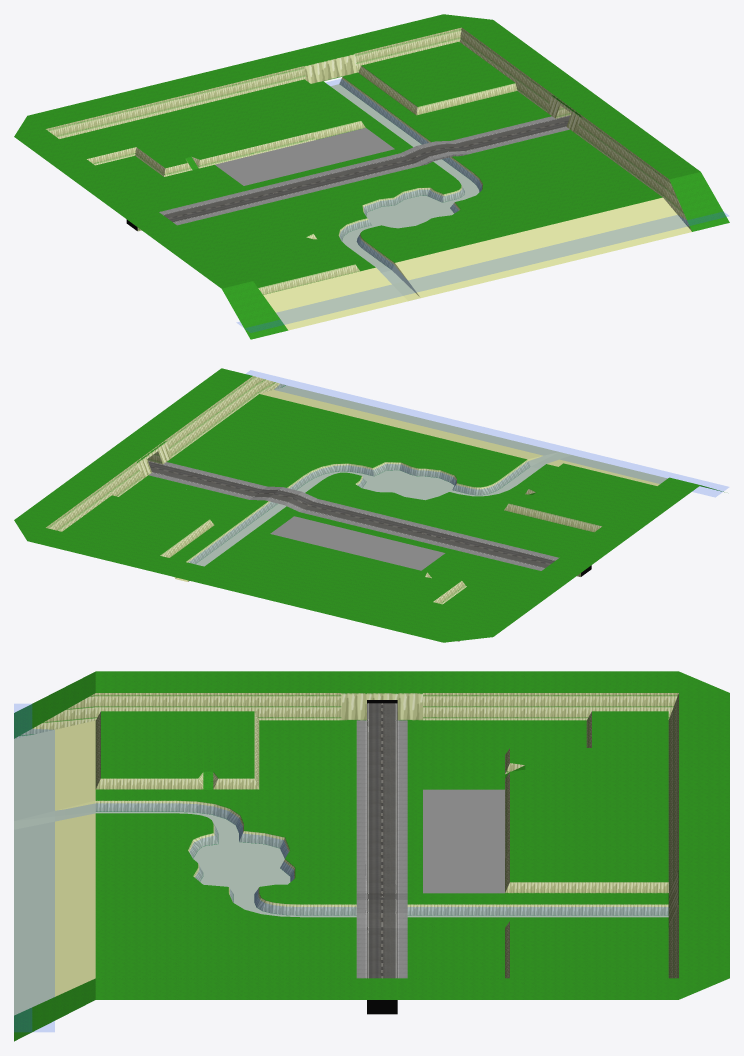
File: island-8x7.glb
3 views of the same model, one above another, from view 1: azimuth 30°, elevation 25°; view 2: azimuth 150°, elevation 25°; view 3: azimuth 270°, elevation 25° (orthographic). The views are drawn at different scales.
Parts seen in each view (by area): view 1: island-8x7-col; view 2: island-8x7-col; view 3: island-8x7-col.
Boxes of the visible parts, x1,y1,x2,y2 form: island-8x7-col: (14,14,729,339); island-8x7-col: (14,368,728,642); island-8x7-col: (14,671,729,1041).
Size of the model in its own units: 152 by 9 by 140.
Materials: 8 (4 with a texture image).
